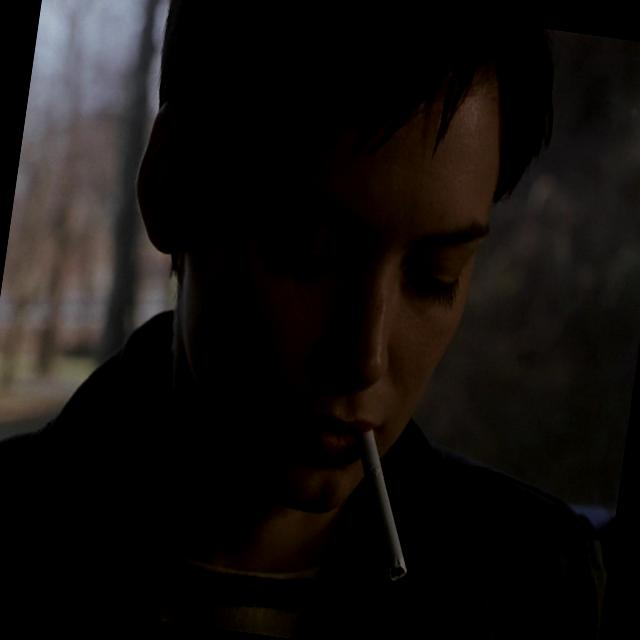smoke: (320, 408, 451, 596)
